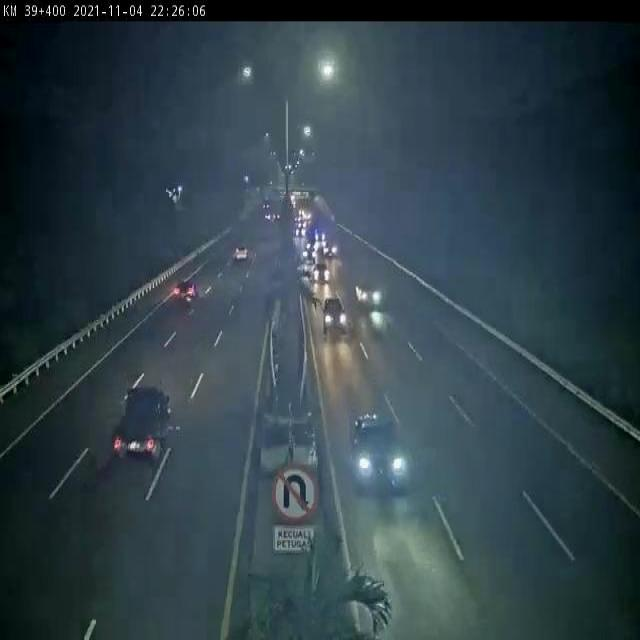Car: (100, 376, 184, 474), (343, 402, 412, 502), (314, 287, 350, 338), (351, 269, 388, 313), (170, 277, 204, 313), (227, 231, 254, 271), (312, 259, 331, 288)
